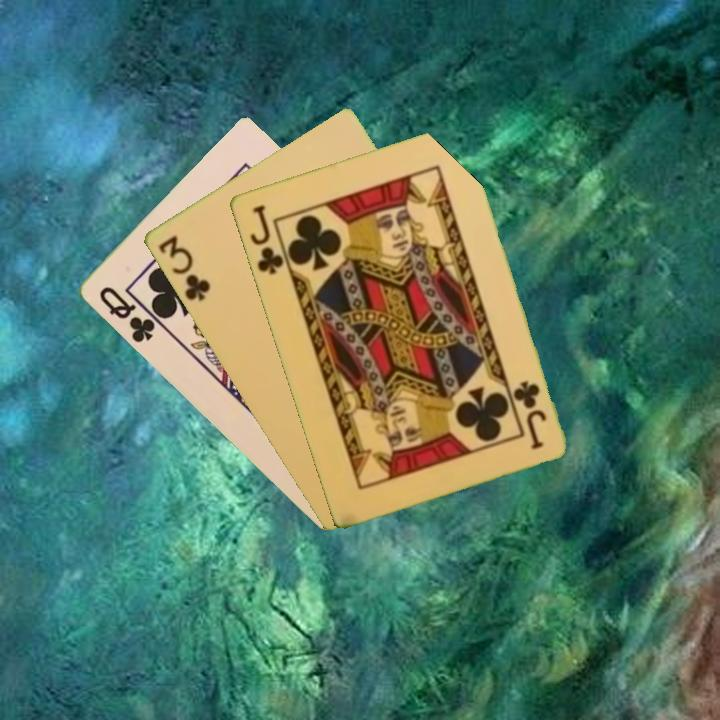3c: (154, 231, 213, 304)
Jc: (246, 200, 286, 278), (510, 376, 549, 452)
Qc: (95, 282, 165, 346)
